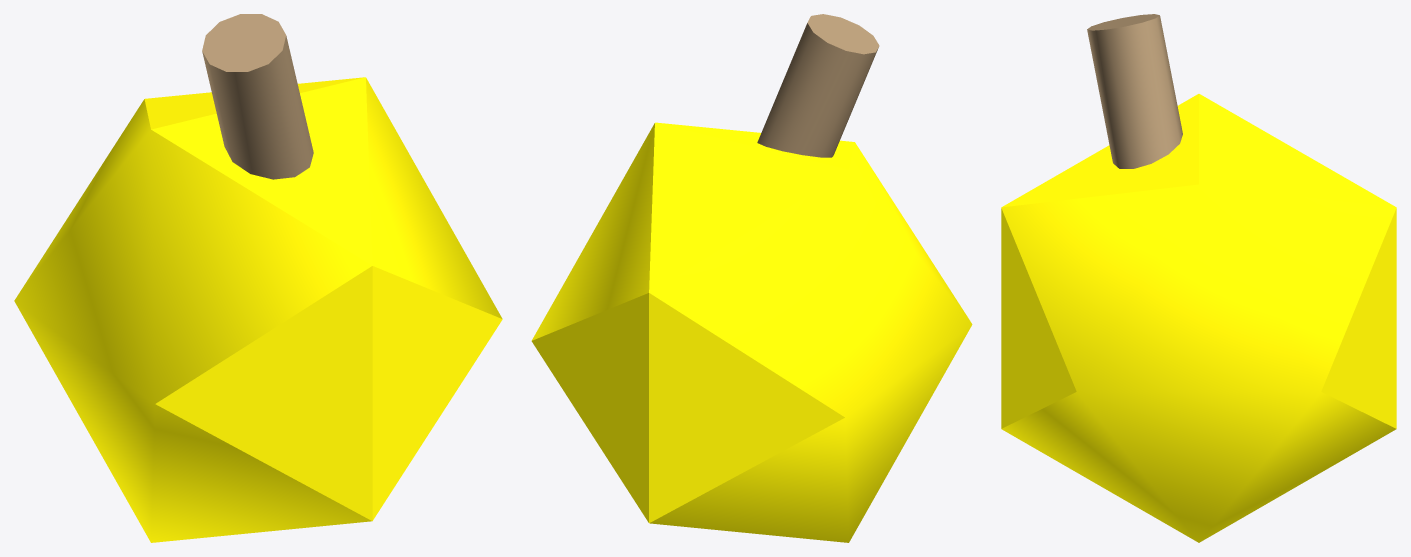
Rendered from lemon.gltf.
The picture shows the model from 3 angles, left to right: view 1: azimuth 30°, elevation 25°; view 2: azimuth 150°, elevation 25°; view 3: azimuth 270°, elevation 25°; orthographic projection. The views are drawn at different scales.
Visible parts, largest first — view 1: lemon-yellow, lemon-brown; view 2: lemon-yellow, lemon-brown; view 3: lemon-yellow, lemon-brown.
Boxes of the visible parts, x1=… form: lemon-yellow: x1=14, y1=77, x2=502, y2=542; lemon-brown: x1=202, y1=14, x2=313, y2=179; lemon-yellow: x1=531, y1=122, x2=972, y2=542; lemon-brown: x1=757, y1=14, x2=879, y2=157; lemon-yellow: x1=1001, y1=94, x2=1396, y2=542; lemon-brown: x1=1087, y1=14, x2=1182, y2=168.
Bounding box in the file's own units: 0.2897 × 0.4249 × 0.3292.
